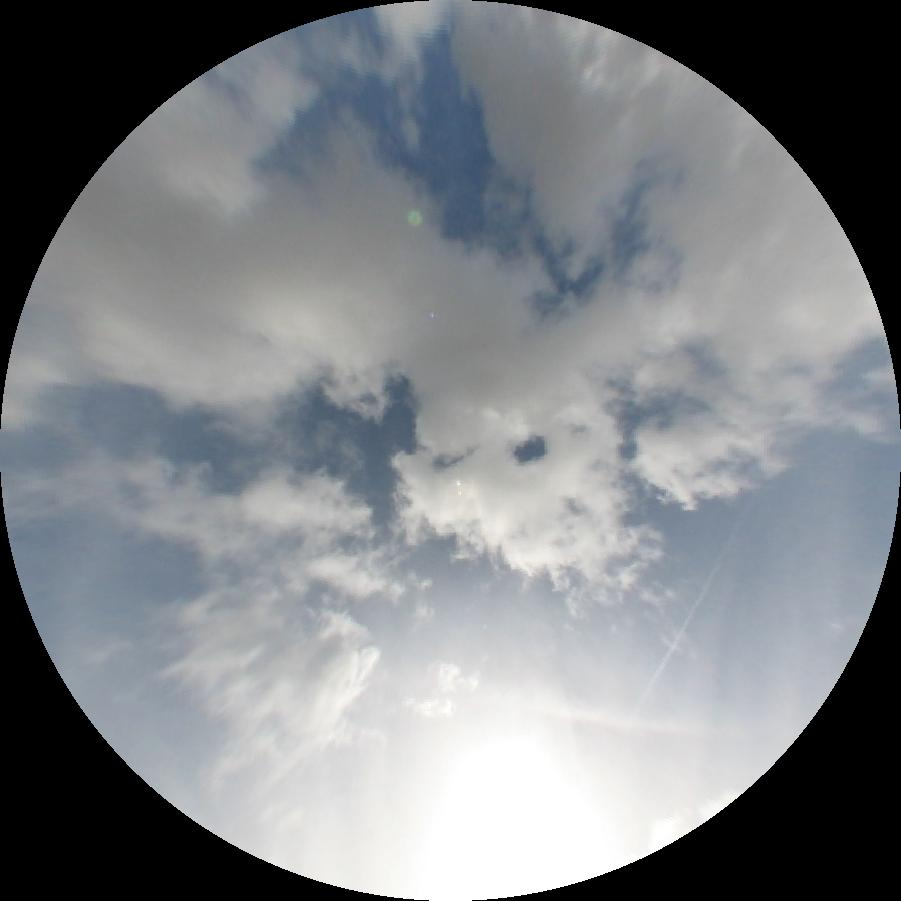contrail veryold: (528, 698, 699, 734)
contrail young: (631, 514, 742, 718)
